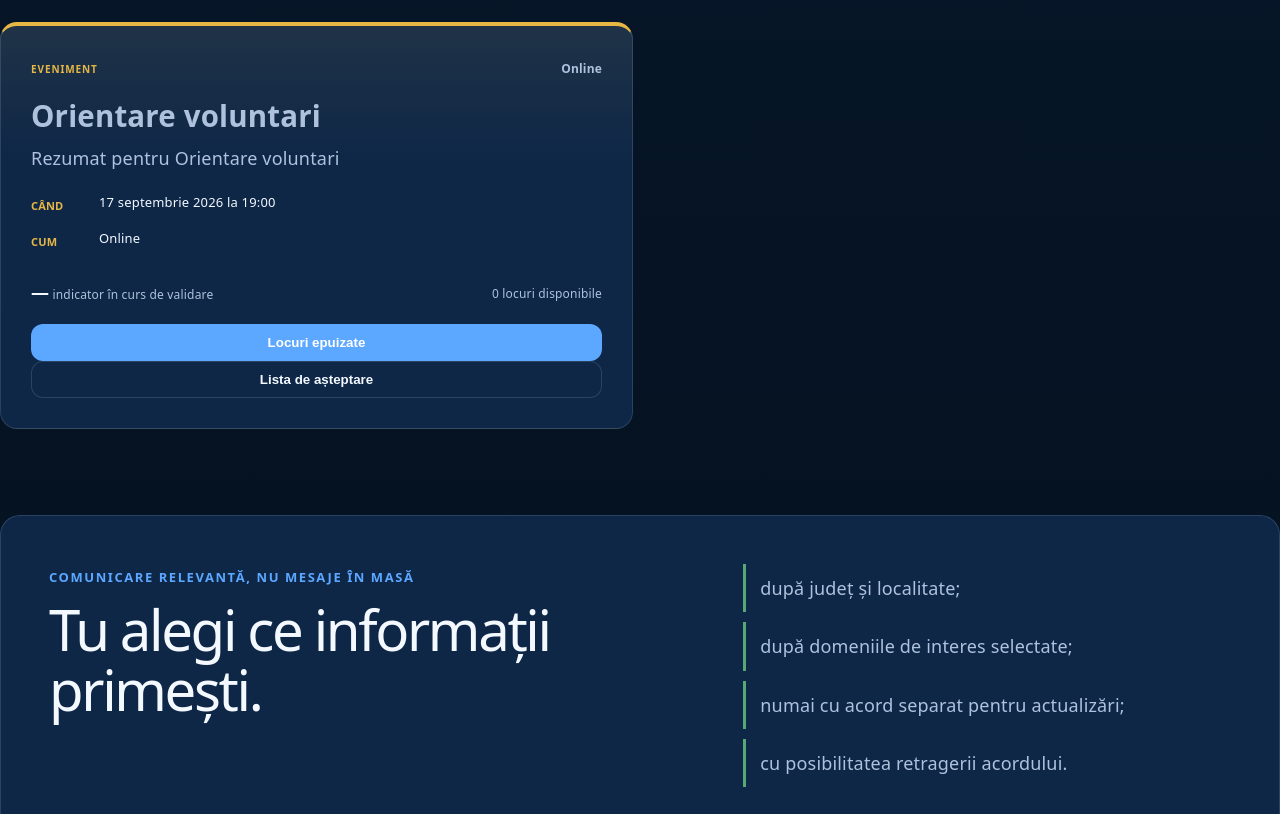
it: MobilizationPage › disables direct registration at capacity and offers an explicit waiting-list submission
(page scrolled)
Expected: the text "0 locuri disponibile" is shown, x1=492 y1=281 x2=602 y2=307
Expected: the button "Locuri epuizate" is disabled, x1=31 y1=324 x2=602 y2=361
Click the button "Lista de așteptare".
click(316, 380)  # box x1=31 y1=361 x2=602 y2=398
(page scrolled)
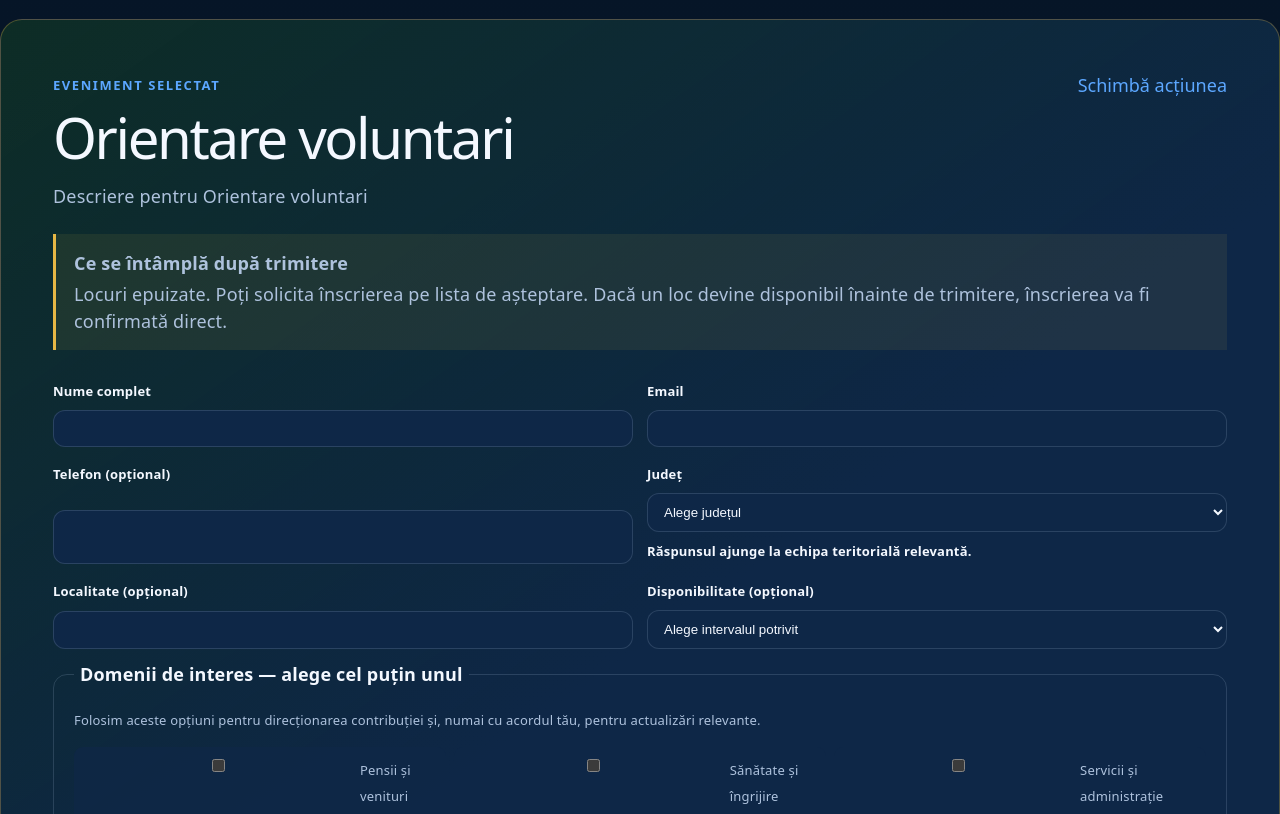
Type "Ana Popescu" into the field labelled "Nume complet".
click(343, 428); type("Ana Popescu")  # box x1=53 y1=410 x2=633 y2=447
Type "ana@example.test" into the field labelled "Email".
click(937, 428); type("ana@example.test")  # box x1=647 y1=410 x2=1227 y2=447
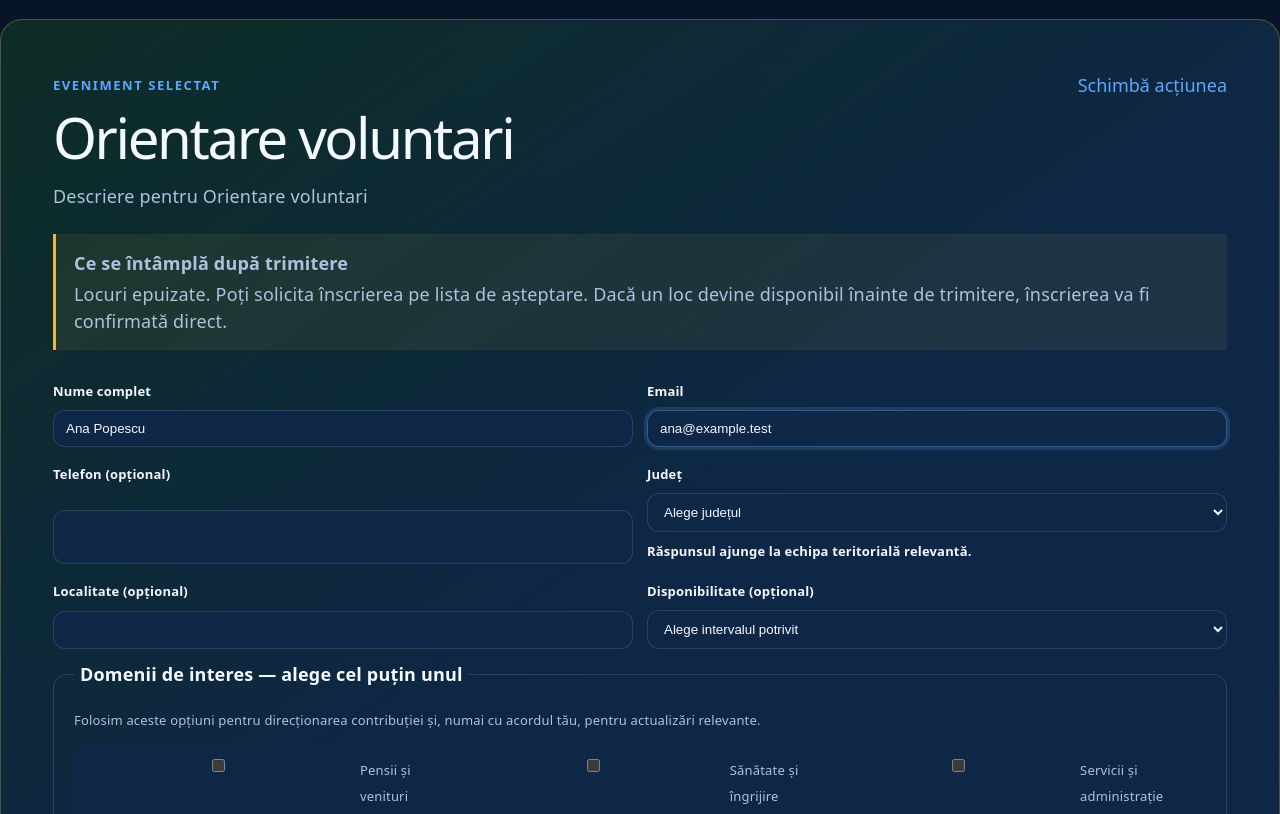
Select "Cluj" in the dropdown labelled "Județ Răspunsul ajunge la echipa teritorială relevantă." at point(937, 512), box x1=647 y1=493 x2=1227 y2=532
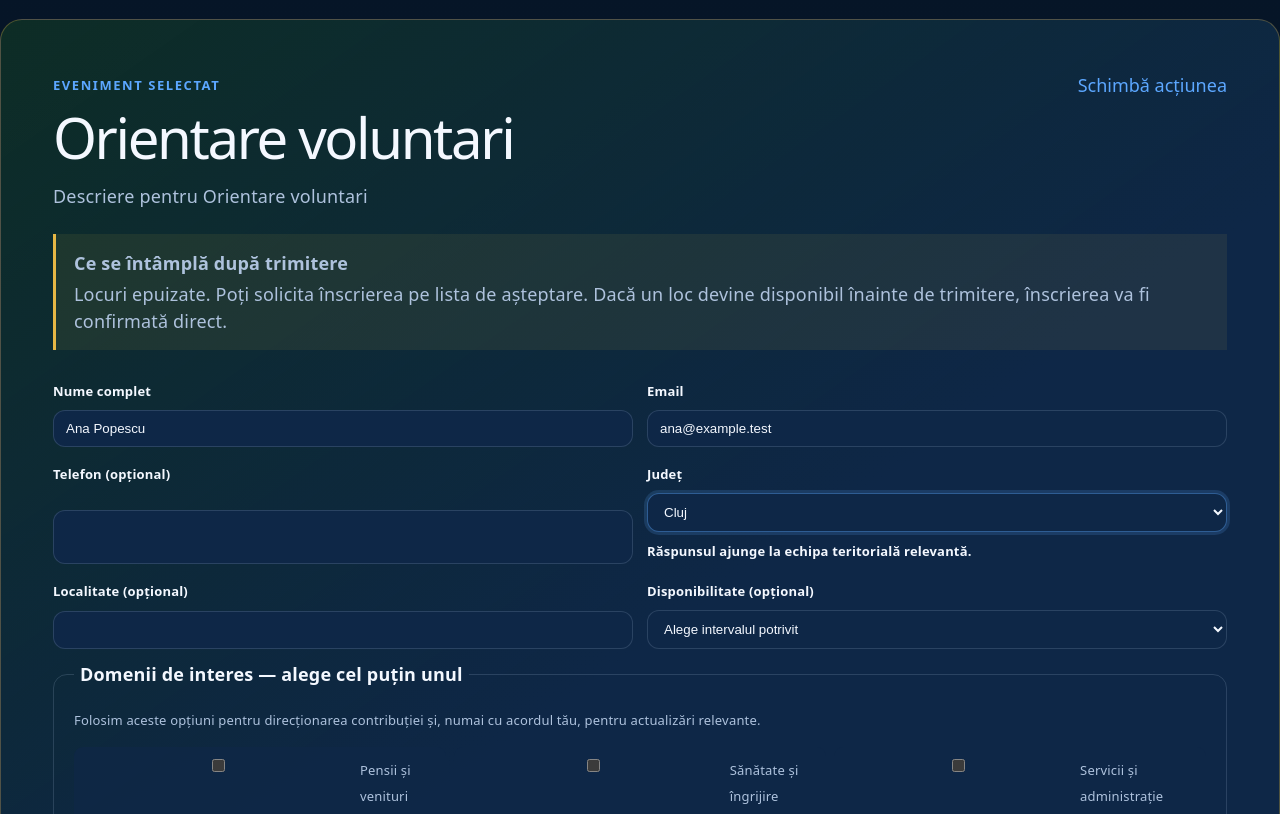
Click the checkbox labelled "Pensii și venituri".
click(218, 766)  # box x1=88 y1=759 x2=349 y2=772
(page scrolled)
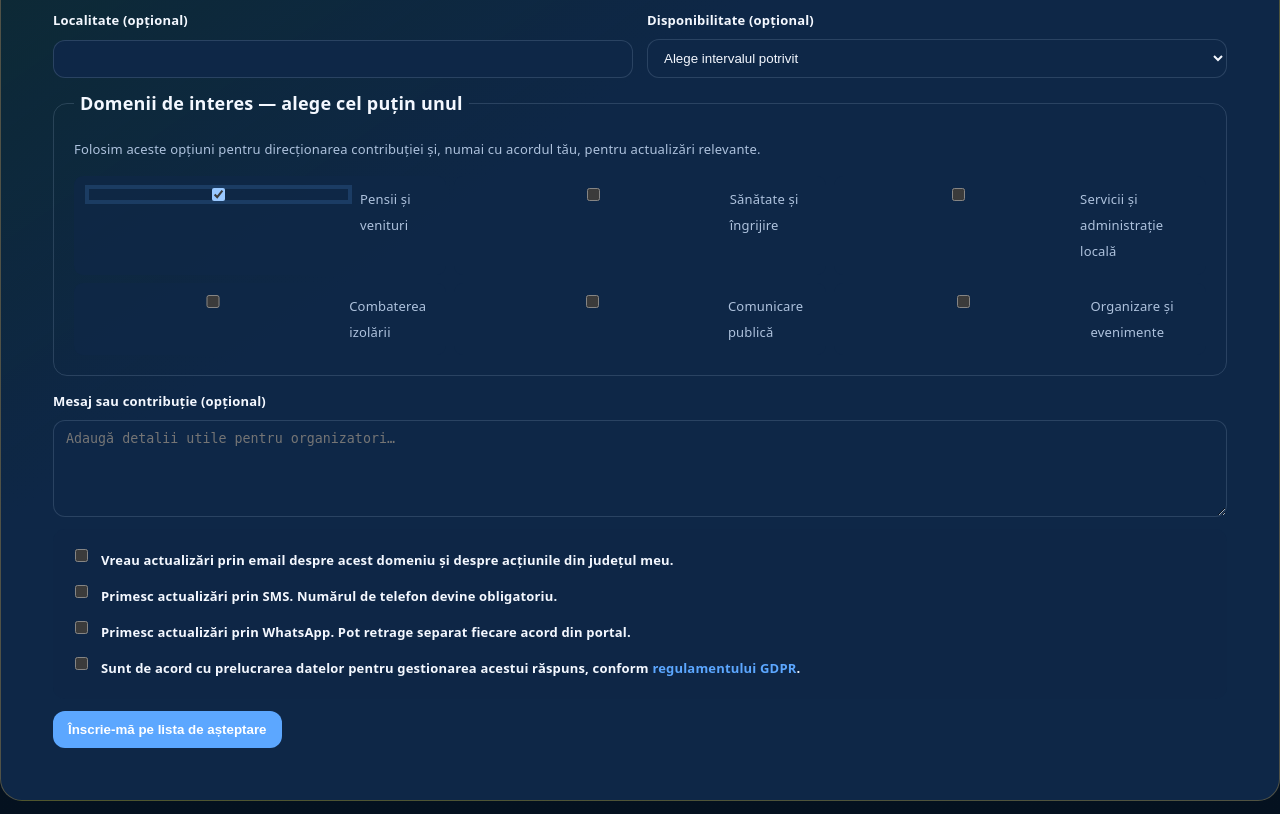
Click the checkbox labelled "Sunt de acord cu prelucrarea".
click(82, 664)  # box x1=75 y1=657 x2=88 y2=670
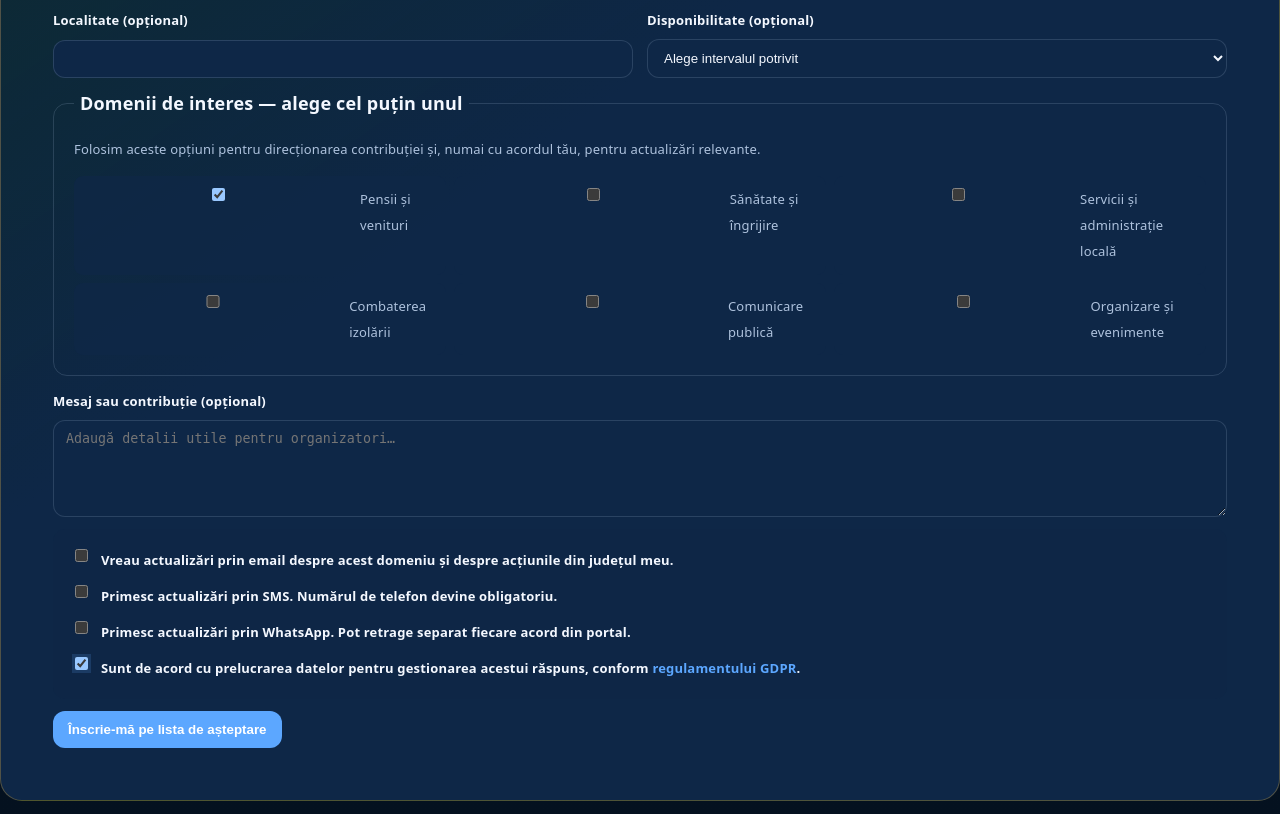
Click the button "Înscrie-mă pe lista de așteptare".
click(167, 730)  # box x1=53 y1=711 x2=282 y2=748
(page scrolled)
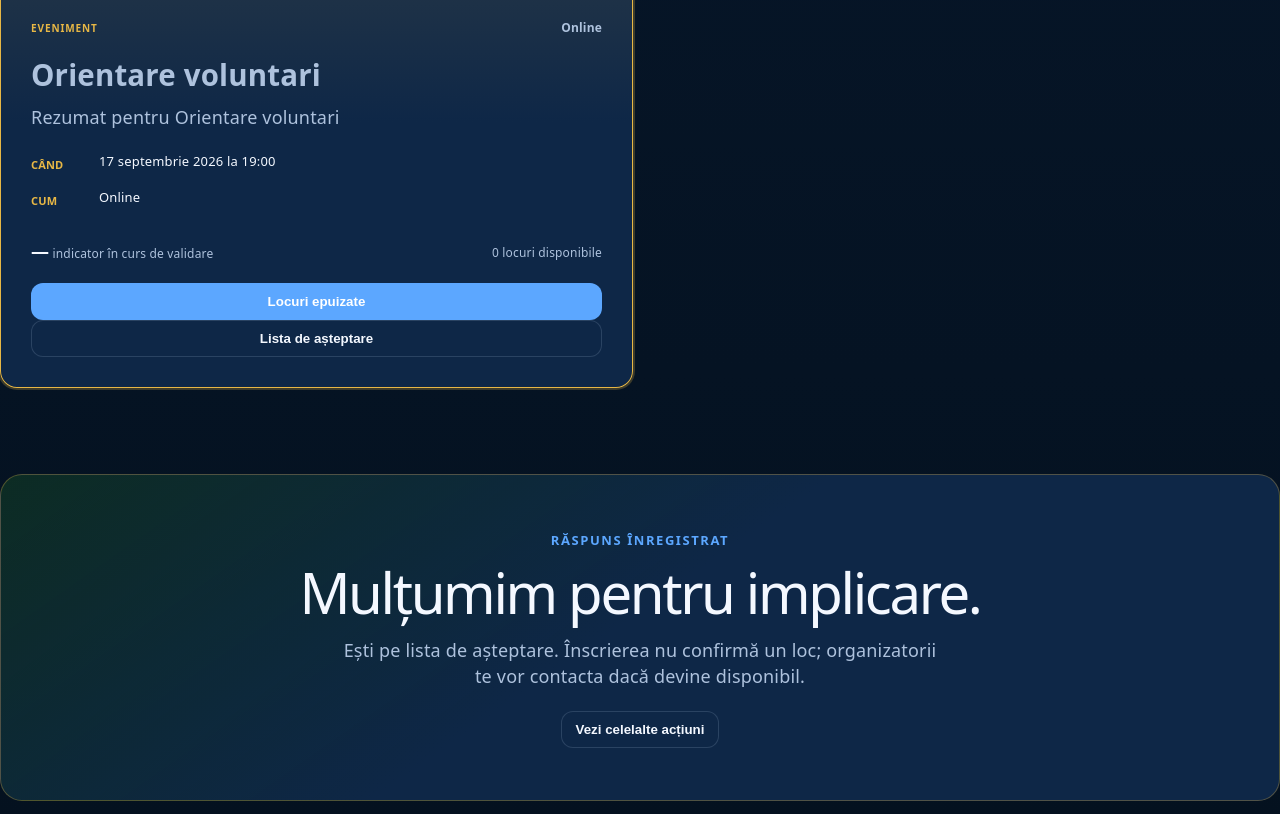
Expected: the text "Ești pe lista de așteptare. Înscrierea nu confirmă un loc" is shown, x1=344 y1=638 x2=936 y2=688
